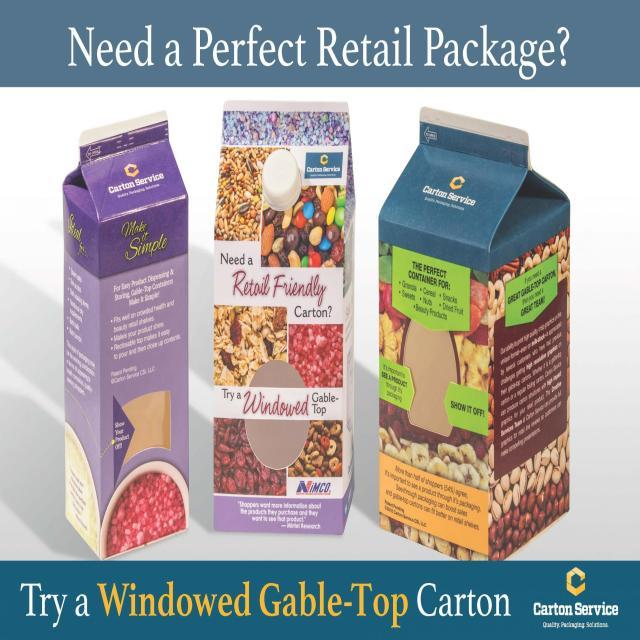Carton: (371, 105, 581, 557), (206, 90, 356, 538), (64, 111, 194, 546)
